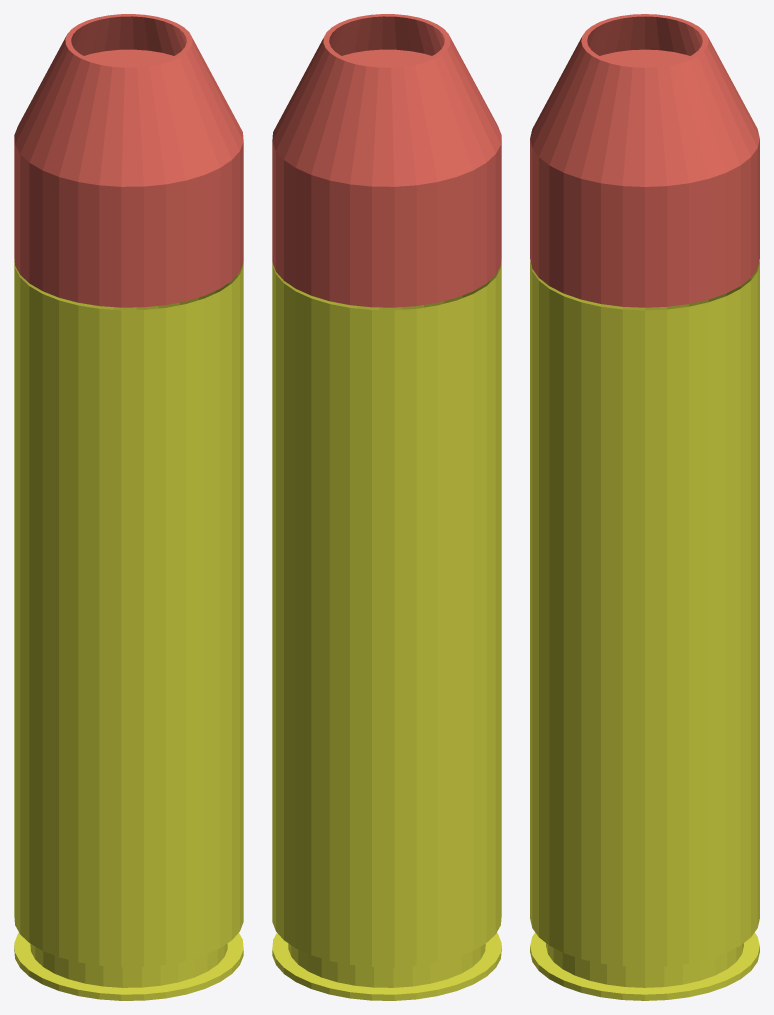
The model's file is revolver_bala.glb.
3 views of the same model, side by side, from view 1: azimuth 30°, elevation 25°; view 2: azimuth 150°, elevation 25°; view 3: azimuth 270°, elevation 25° (orthographic).
Visible parts, largest first — view 1: Cilindro, Cilindro.001; view 2: Cilindro, Cilindro.001; view 3: Cilindro, Cilindro.001.
Part boxes in pixels (<box>): Cilindro: <box>14,258,243,1000</box>; Cilindro.001: <box>14,14,243,307</box>; Cilindro: <box>272,258,501,1000</box>; Cilindro.001: <box>272,14,501,307</box>; Cilindro: <box>530,261,759,1000</box>; Cilindro.001: <box>530,14,759,307</box>.
Bounding box in the file's own units: 1.07 × 4.67 × 1.07.
